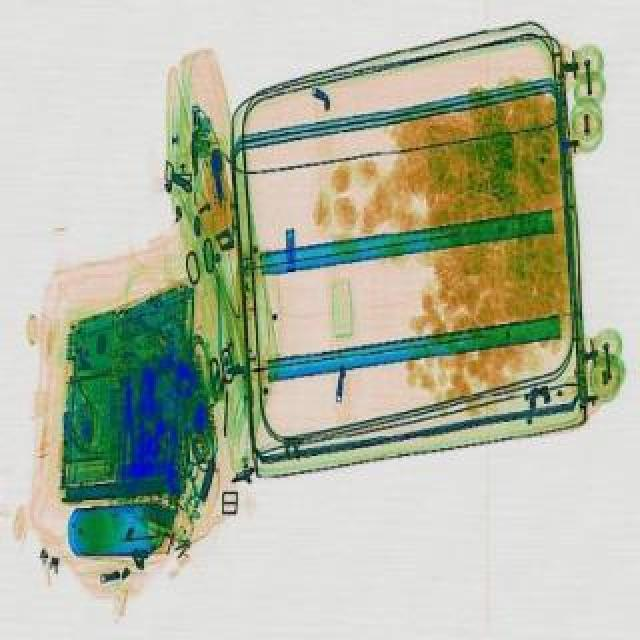wrench: (120, 386, 138, 474)
